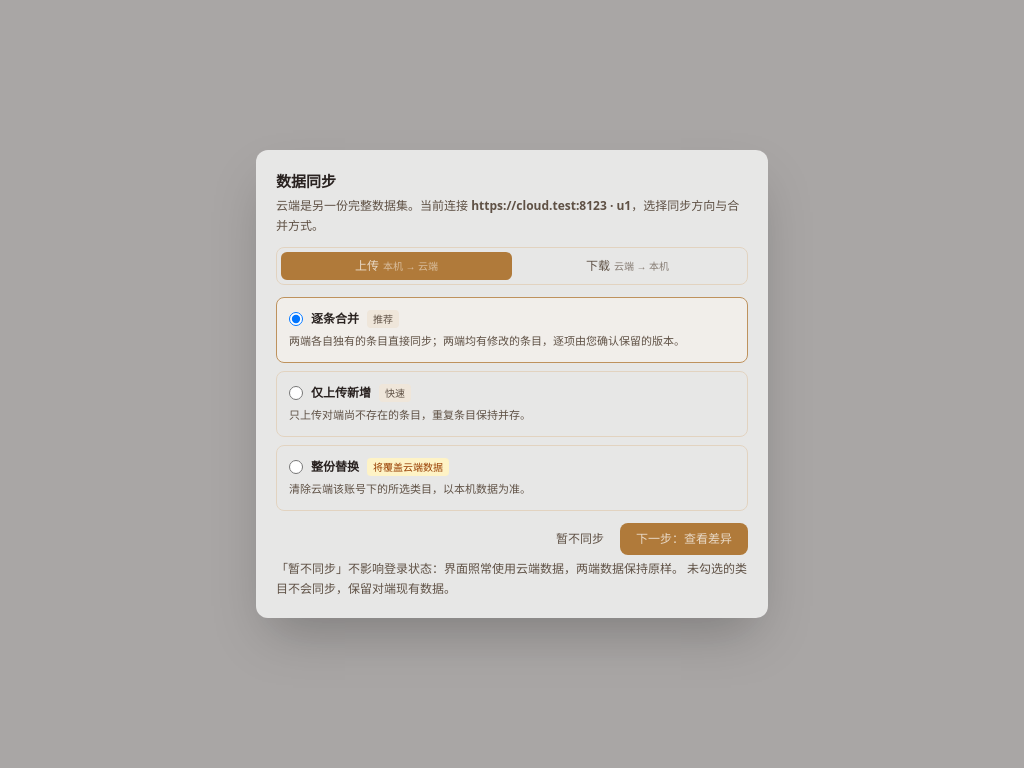
Test: SyncWizard › 下载方向：整份替换以禁用态呈现并说明原因，不悄悄消失
This screenshot has width=1024, height=768.
Click the button "下载云端 → 本机" at (628, 266), box [512, 252, 743, 280]
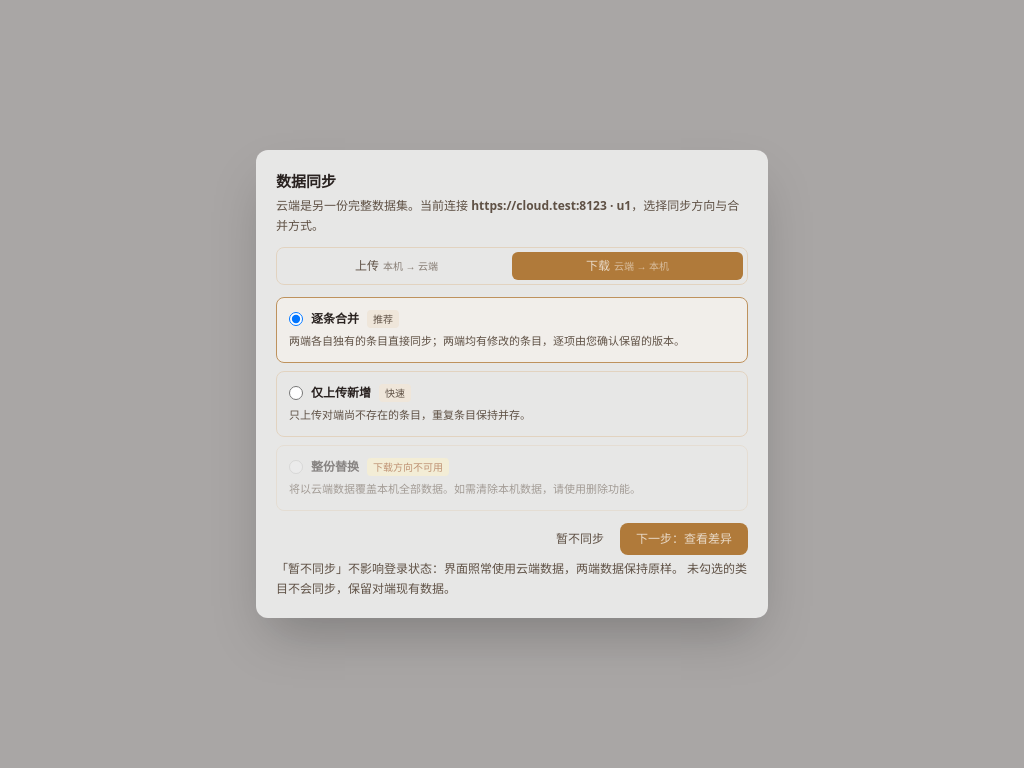
Check: the text "下载方向不可用" is shown, box [367, 458, 449, 476]
Check: the text "将以云端数据覆盖本机全部数据。如需清除本机数据，请使用删除功能。" is shown, box [289, 481, 641, 496]
